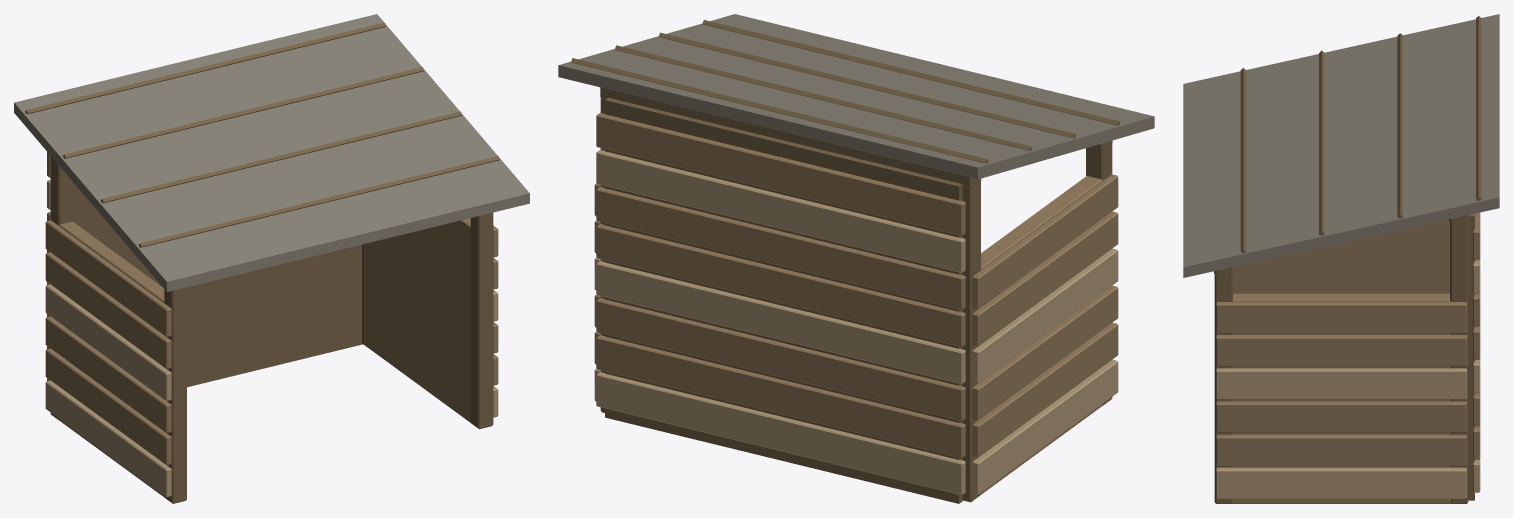
The model's file is shed.glb.
3 renders of one model, left to right at view 1: azimuth 30°, elevation 25°; view 2: azimuth 150°, elevation 25°; view 3: azimuth 270°, elevation 25°, orthographic. The views are drawn at different scales.
Parts seen in each view (by area): view 1: shed_fort_shingle, shed_oak_dark, shed_oak, shed_oak_light; view 2: shed_oak, shed_oak_light, shed_fort_shingle, shed_oak_dark; view 3: shed_fort_shingle, shed_oak, shed_oak_light, shed_oak_dark.
Part boxes in pixels (box(x1,y1,x2,y2)): shed_fort_shingle: box(14, 14, 529, 291); shed_oak_dark: box(25, 22, 499, 503); shed_oak: box(45, 152, 498, 496); shed_oak_light: box(45, 180, 498, 497); shed_oak: box(594, 112, 1118, 494); shed_oak_light: box(594, 149, 1118, 495); shed_fort_shingle: box(558, 14, 1154, 179); shed_oak_dark: box(571, 20, 1119, 503); shed_fort_shingle: box(1183, 14, 1499, 277); shed_oak: box(1216, 212, 1480, 503); shed_oak_light: box(1216, 260, 1480, 498); shed_oak_dark: box(1214, 16, 1481, 503).
Size of the model in its own units: 3.32 by 2.68 by 2.42.
